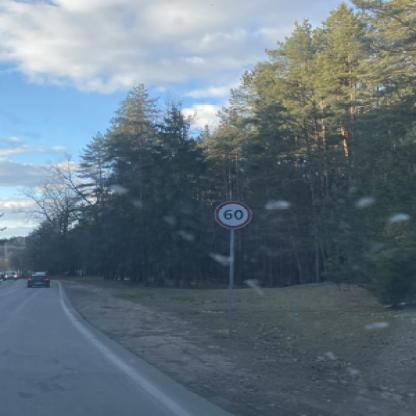speedlimit: (212, 198, 248, 228)
